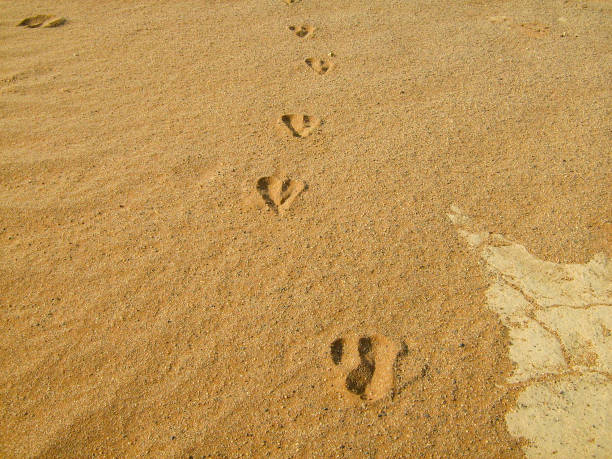animal_foot_print: (330, 335, 399, 401), (256, 172, 306, 213), (489, 16, 549, 37), (279, 114, 320, 137), (17, 15, 65, 27), (519, 22, 549, 37), (305, 58, 333, 74), (288, 24, 315, 37), (284, 0, 299, 4)
